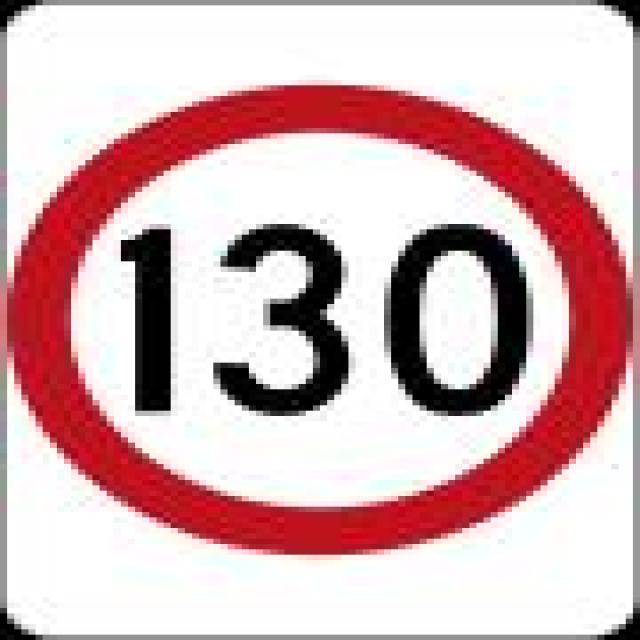speed limit 130: (9, 82, 637, 555)
